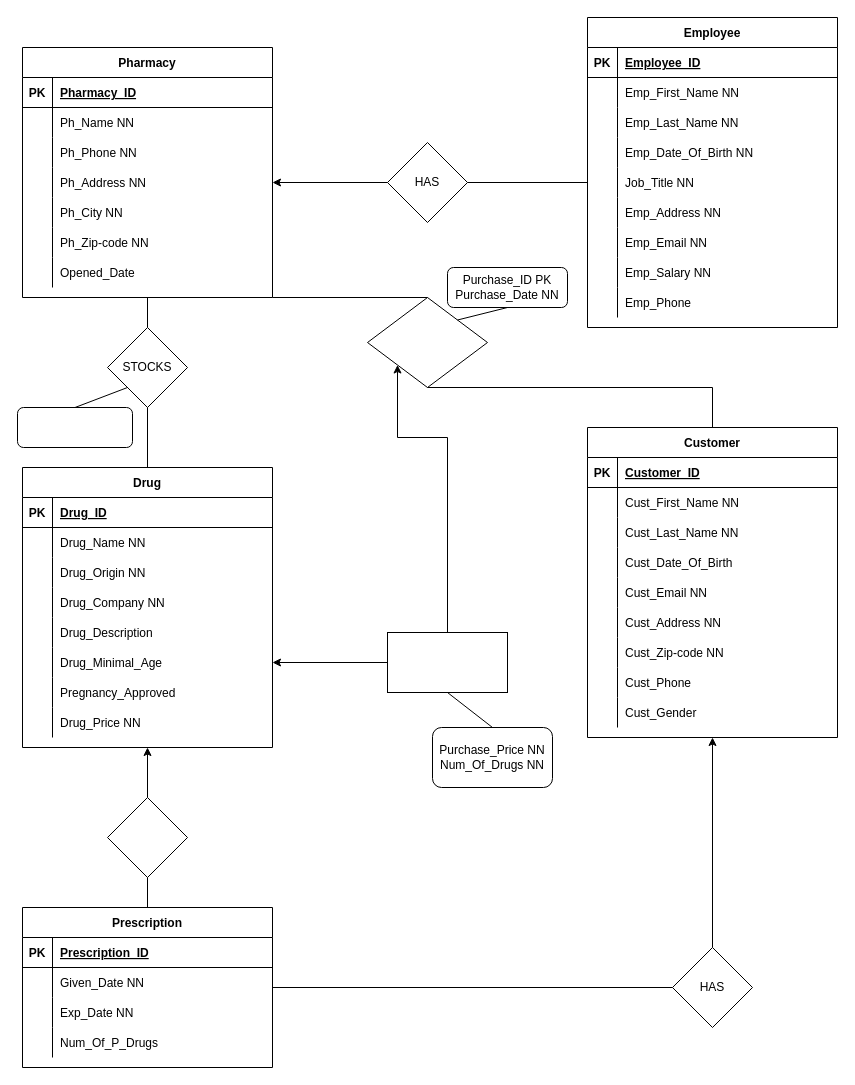
Some shapes in this 855 by 1085 pixel diagram are drawn without their labels. The shapes that lost their labels are listed below. From the top down, each one's centre as x and y in pixels, then its label:
At (x=427, y=342): "SELLS TO/ PURCHASES FROM".
At (x=74, y=427): "Drug_Count NN Drug_Available NN".
At (x=447, y=662): "Purchase_Details".
At (x=147, y=837): "NEED".
